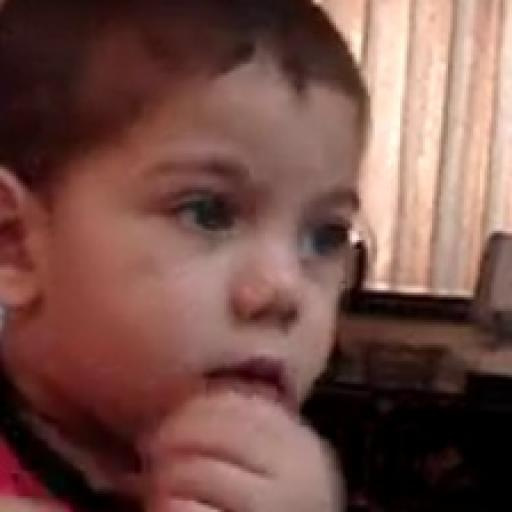Autism: (39, 47, 436, 498)
